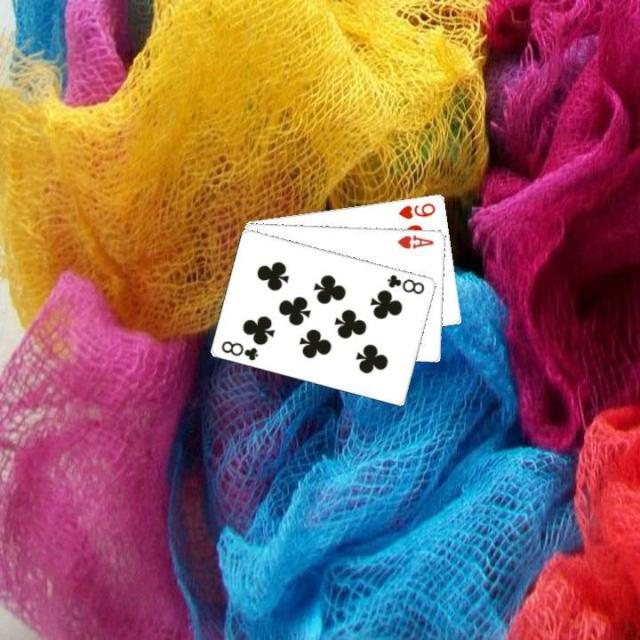8C: (383, 270, 427, 296), (218, 337, 260, 363)
9H: (395, 198, 437, 220)
AH: (394, 231, 436, 251)
